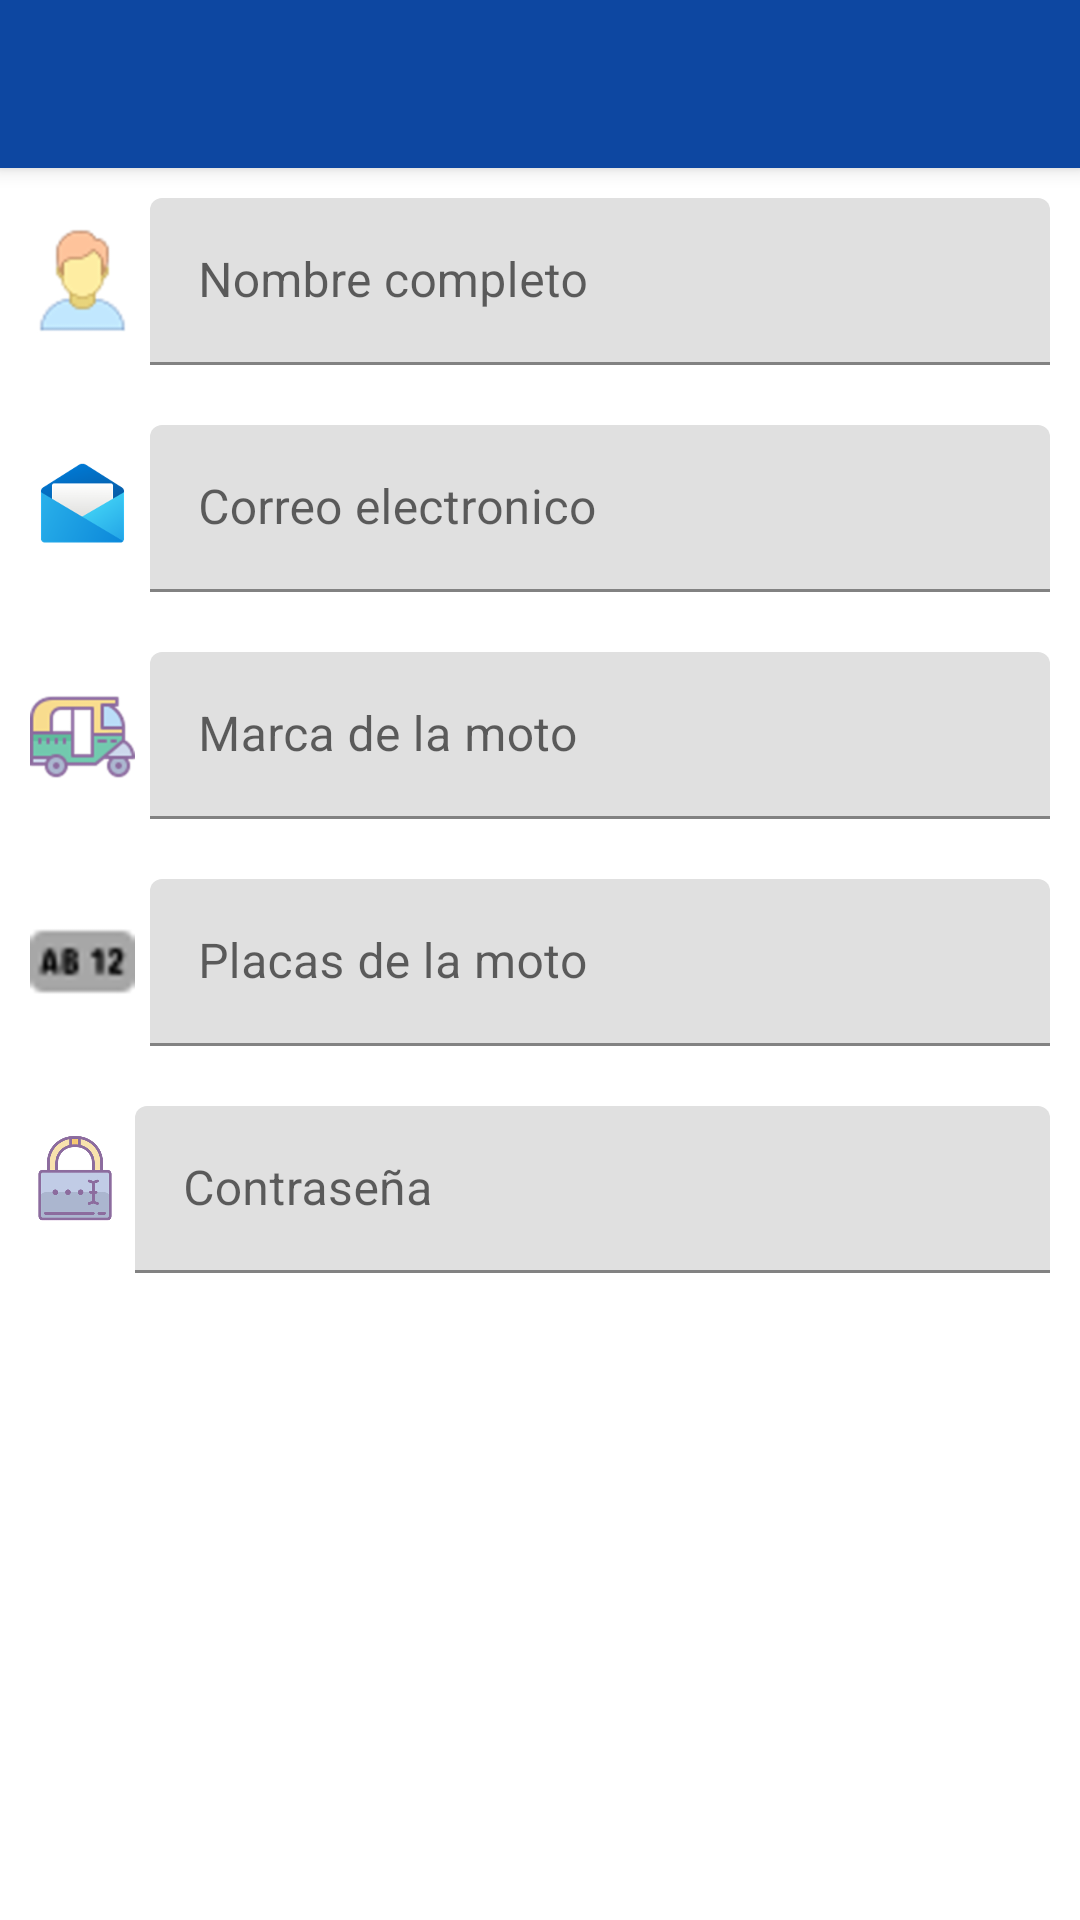

Where icons sit on this 1080×1920 app screen, as {"left": x1, "top": y1, "right": x2, "bottom": y2}:
email: {"left": 41, "top": 463, "right": 124, "bottom": 543}
iconomoto: {"left": 30, "top": 696, "right": 135, "bottom": 778}
iconplaca: {"left": 30, "top": 930, "right": 135, "bottom": 993}
password: {"left": 38, "top": 1136, "right": 112, "bottom": 1221}
user: {"left": 40, "top": 230, "right": 125, "bottom": 331}
